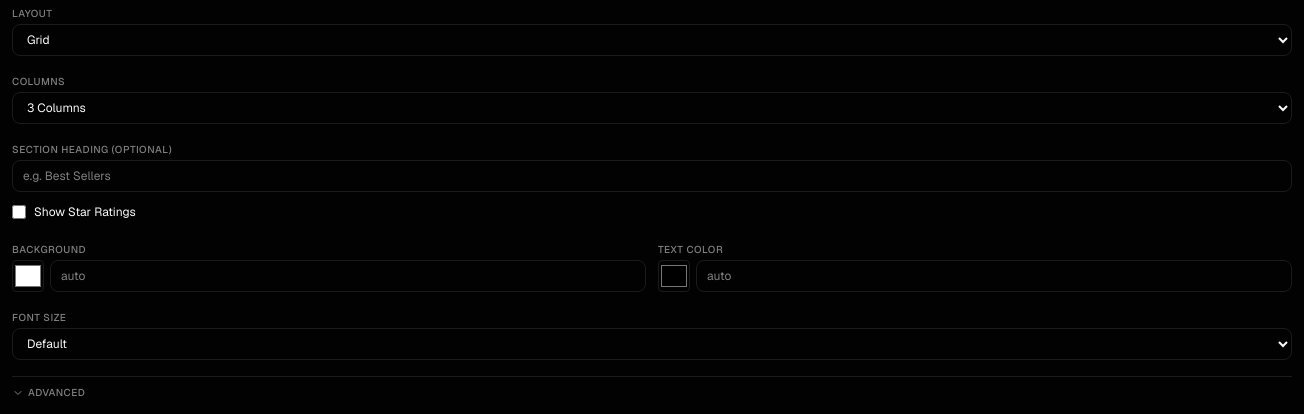
StorefrontProductGrid list mode › mutes the columns control in list mode
The width and height of the screenshot is (1304, 414).
Select "List" in the dropdown with test id "product-grid-layout-select": point(652, 40) [12,24,1292,56]
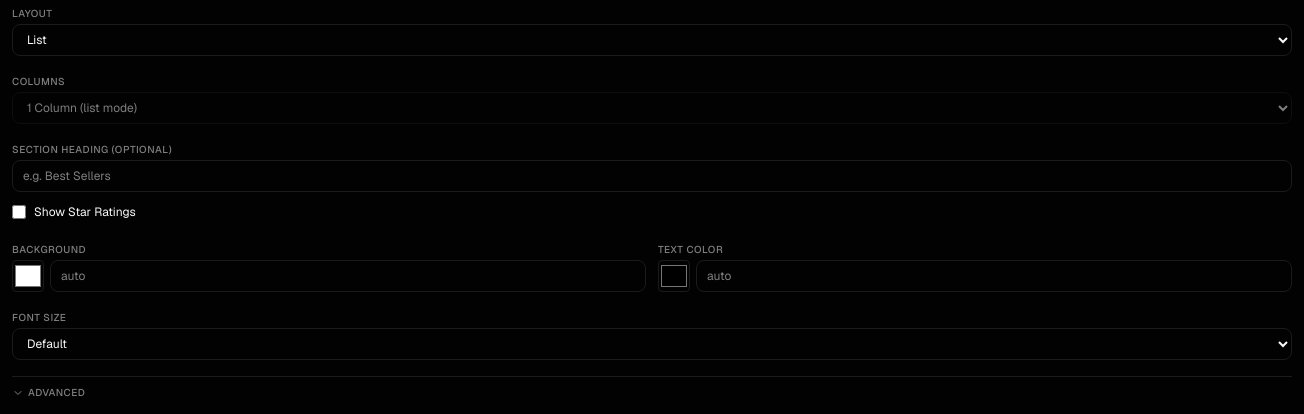
Expected: the dropdown with test id "product-grid-columns-select" is disabled, [12,92,1292,124]
